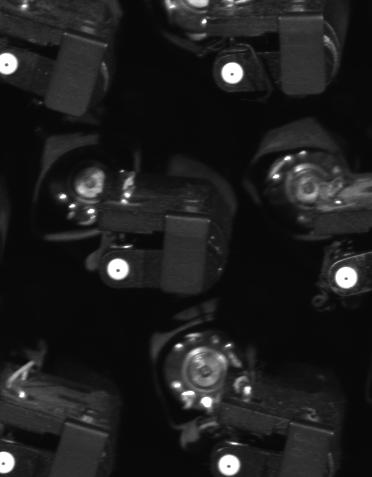fiber: (332, 263, 362, 294), (1, 45, 27, 80), (214, 451, 248, 477), (218, 57, 247, 87), (103, 255, 131, 284), (1, 446, 19, 476)
